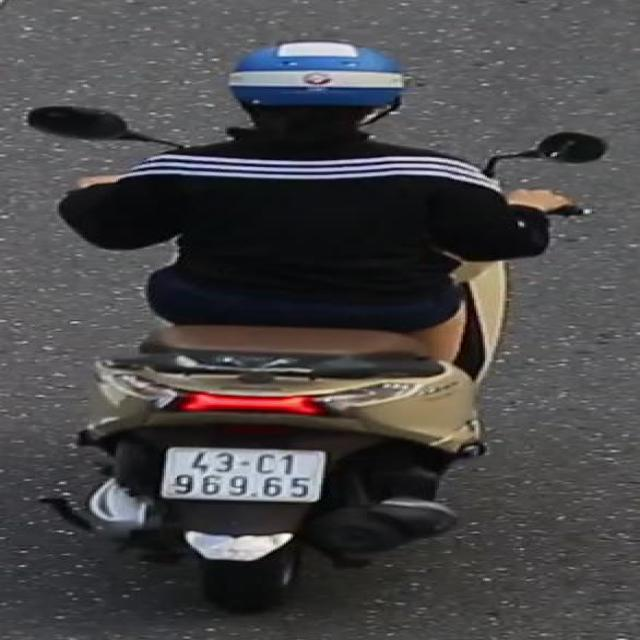LP: (157, 444, 334, 508)
helmet: (223, 34, 415, 158)
